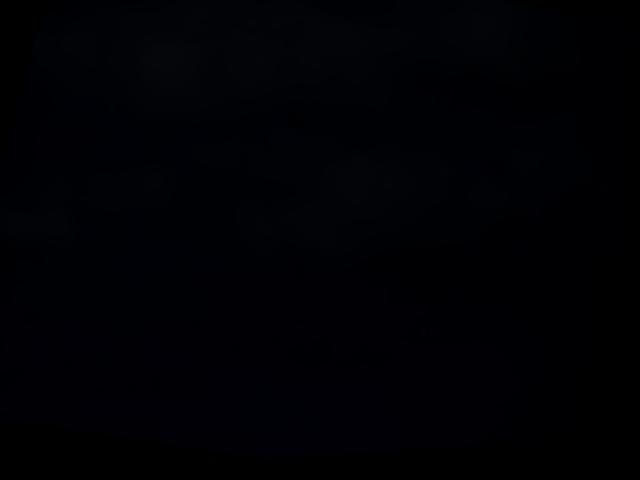plane: (281, 112, 315, 138)
